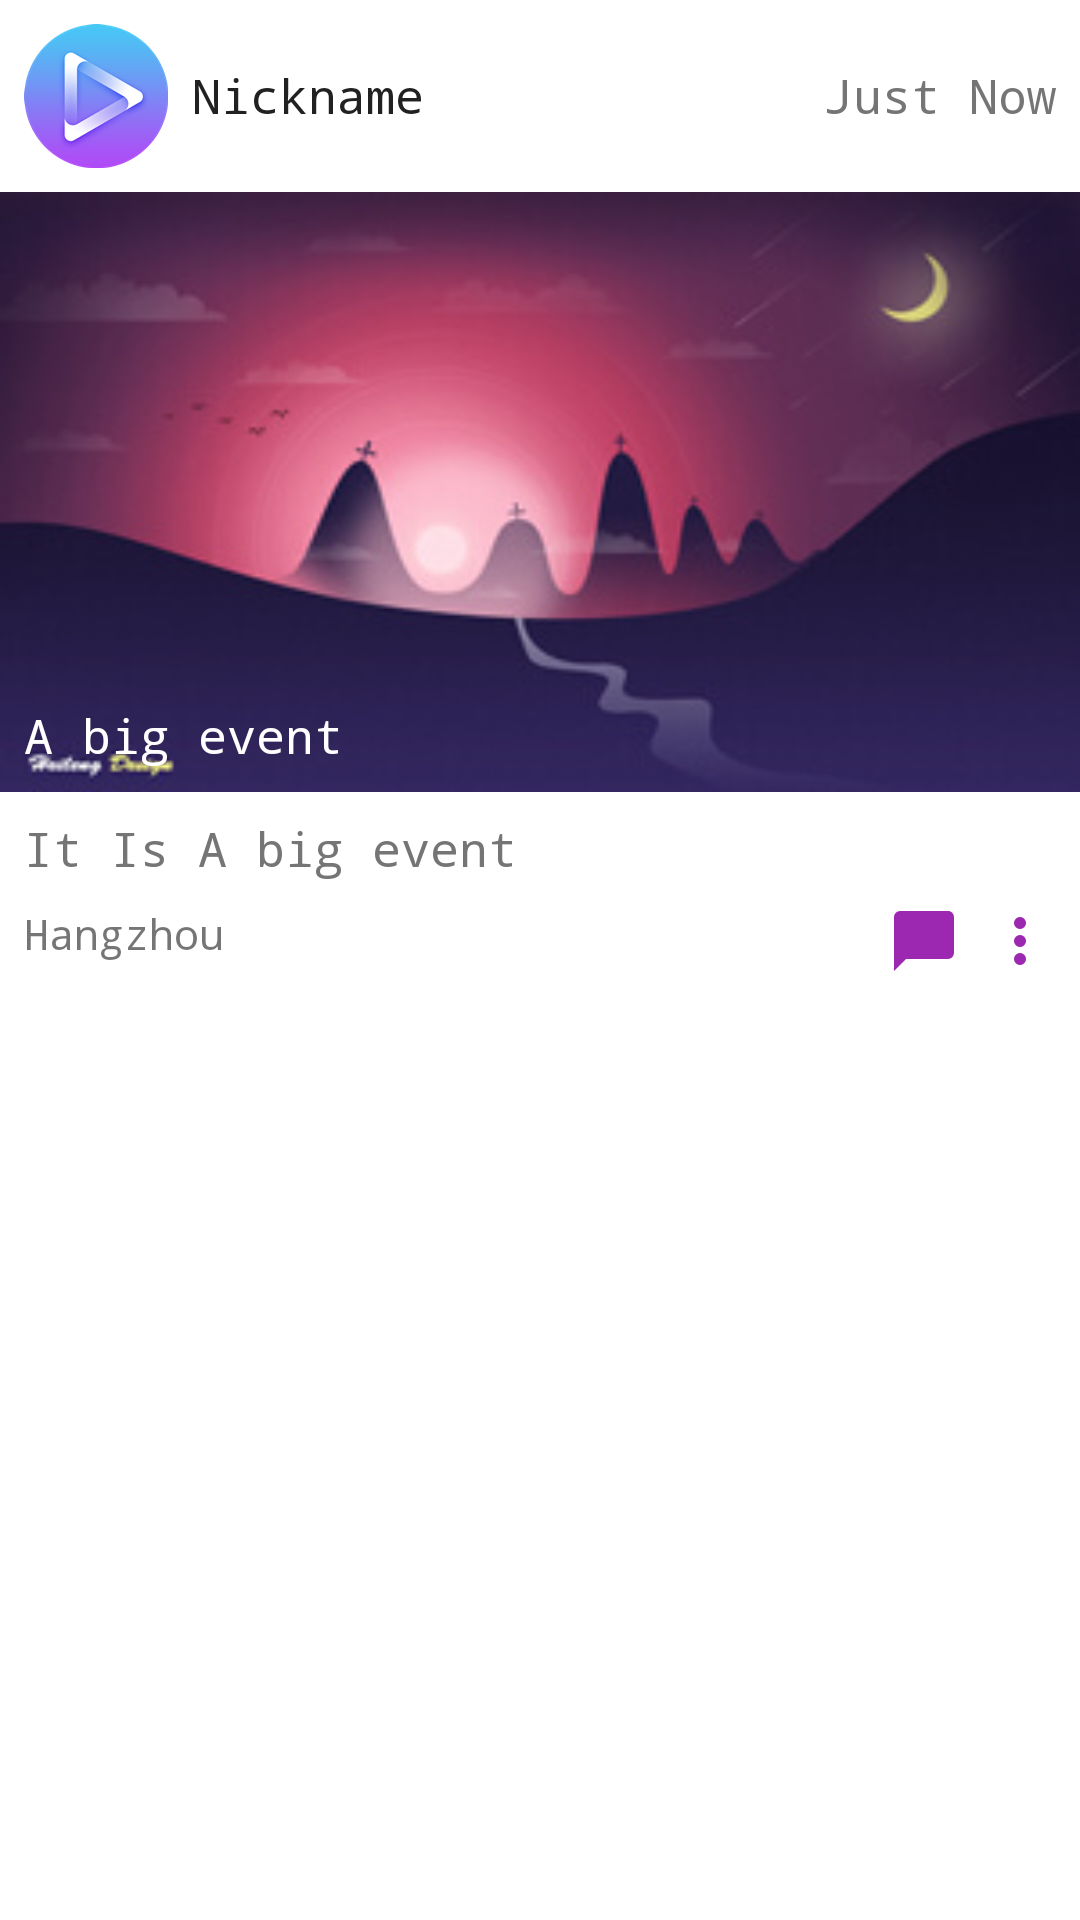

Point at icon controls on the screen. Image size 1080 x 1920, points as [x,y].
dots vertical: [1020,941]
message: [924,941]
